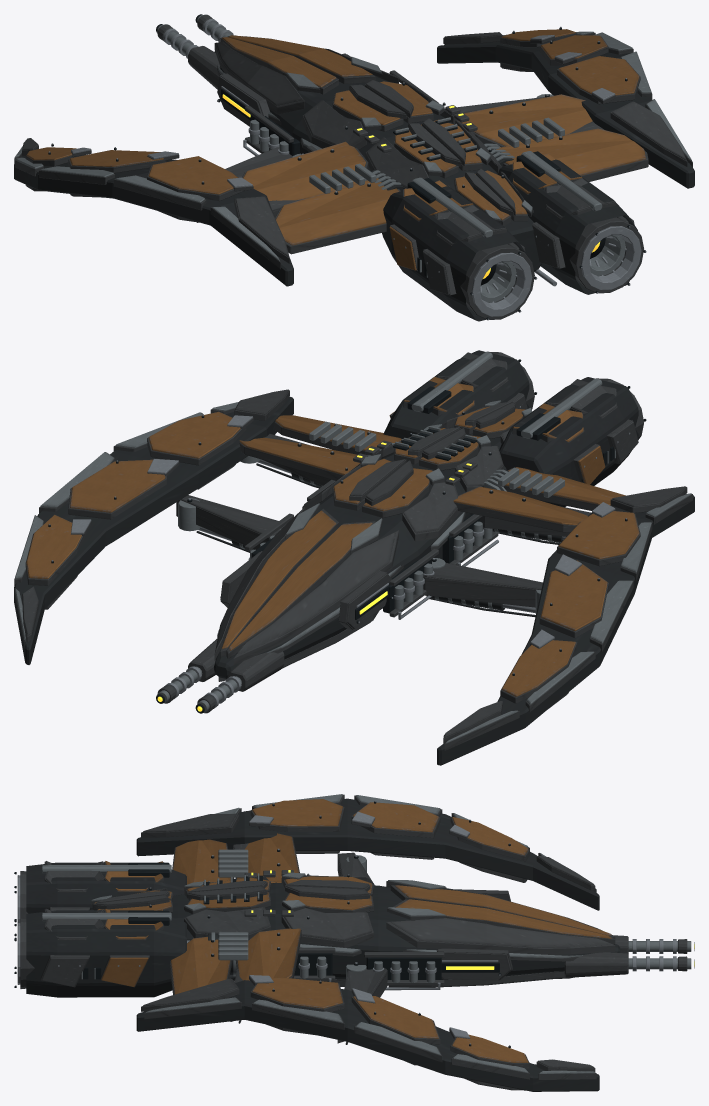
Rendered from scout.glb.
3 renders of one model, top to bottom at view 1: azimuth 30°, elevation 25°; view 2: azimuth 150°, elevation 25°; view 3: azimuth 270°, elevation 25°, orthographic. The views are drawn at different scales.
Parts seen in each view (by area): view 1: Scout.001; view 2: Scout.001; view 3: Scout.001.
Part boxes in pixels (box(x1,y1,x2,y2)): Scout.001: box(14, 14, 694, 321); Scout.001: box(14, 350, 694, 765); Scout.001: box(14, 794, 694, 1091).
Size of the model in its own units: 4.86 by 1.06 by 5.67.
7 materials, 7 textured.
